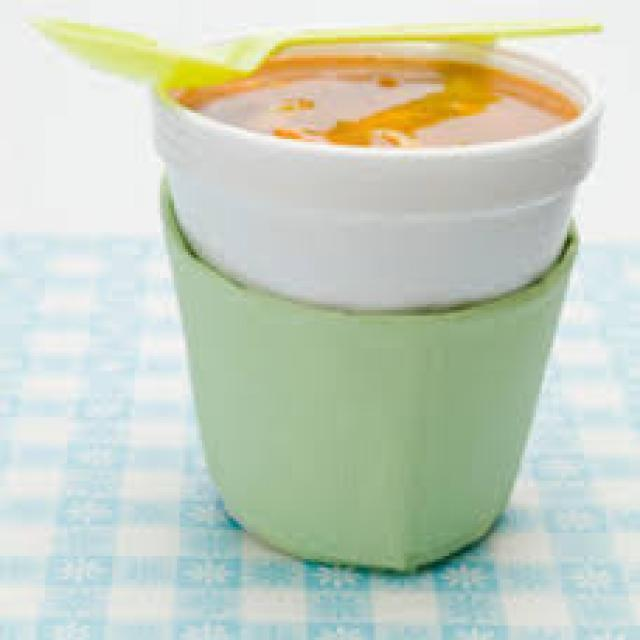Cardboard: (154, 162, 578, 568)
Plastic: (34, 8, 592, 78)
